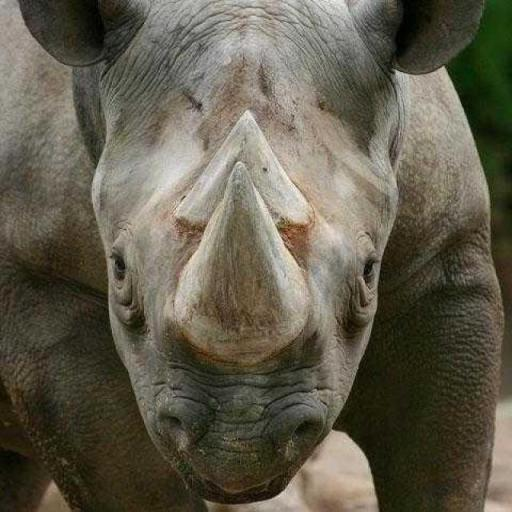Rhino: (0, 0, 506, 511)
